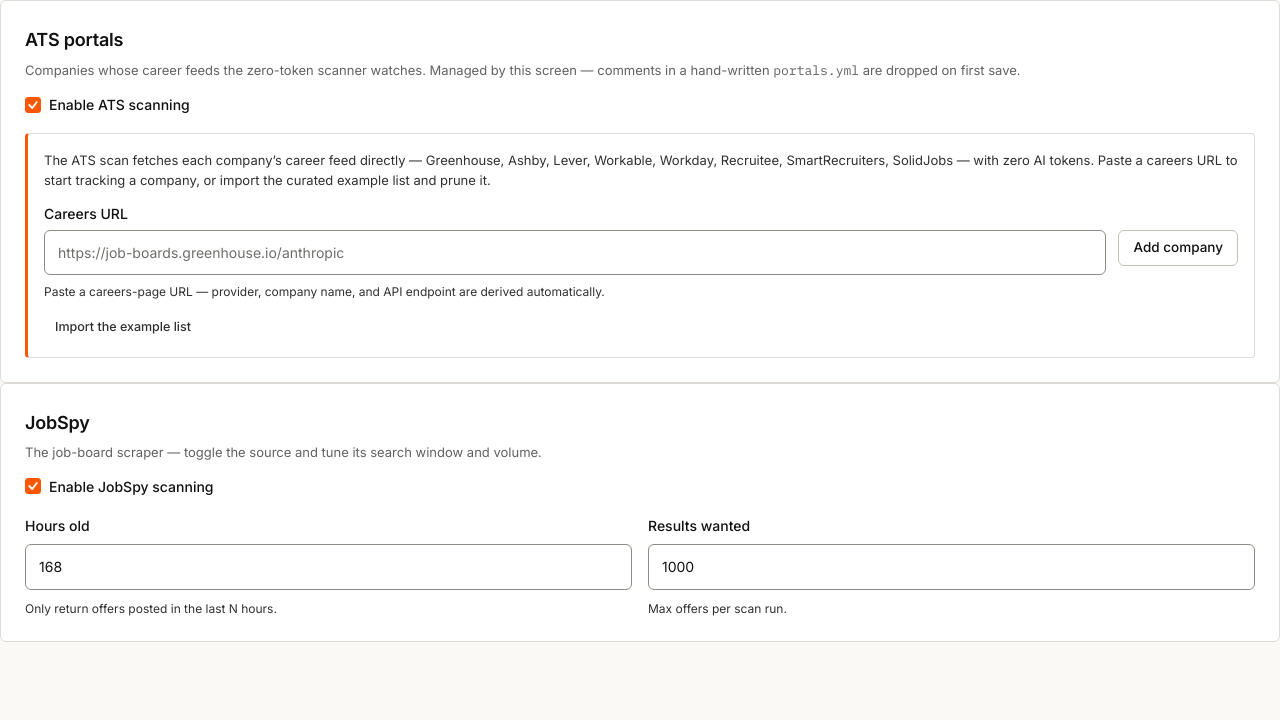
Scenario: Source toggles — at least one source must stay enabled › allows switching a source off while the sibling is still enabled — across sections
Note: ATS off while JobSpy is on → allowed.
Click the checkbox with id "settings-source-ats" at (33, 105), box x1=25 y1=97 x2=41 y2=113
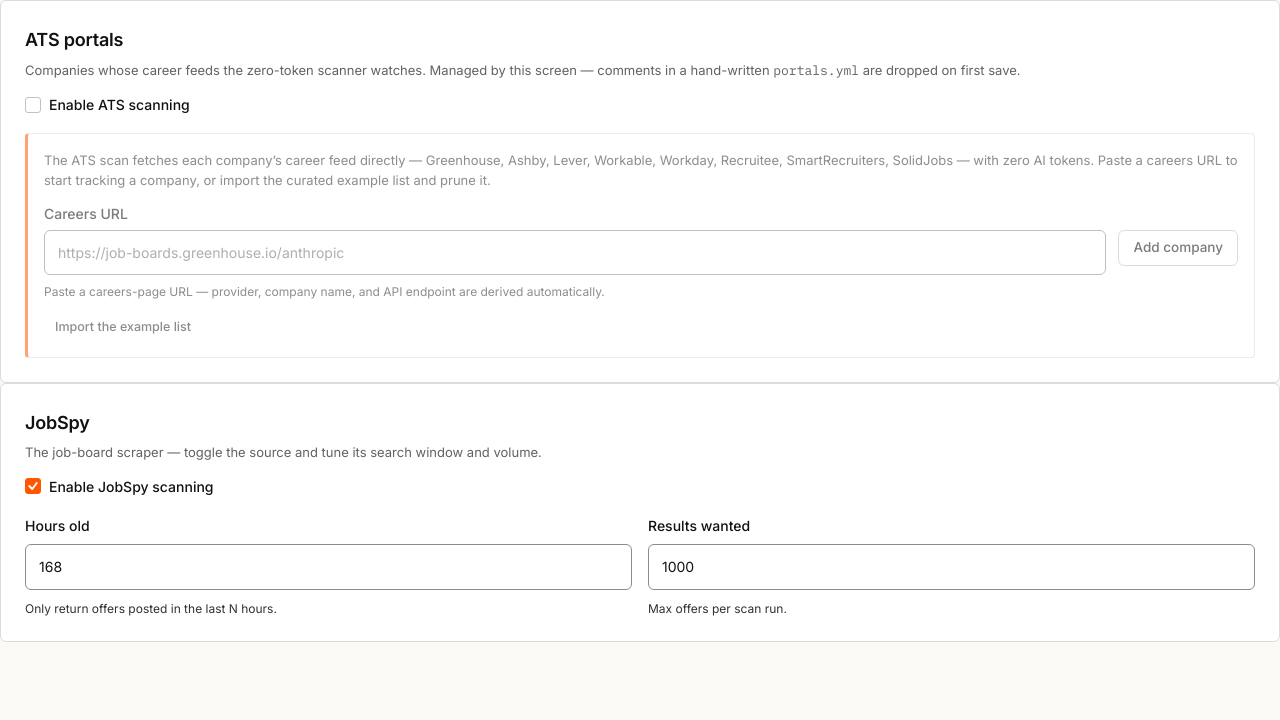
Expected: the text "At least one source must stay enabled." is not shown
Expected: the checkbox with id "settings-source-ats" is not checked, x1=25 y1=97 x2=41 y2=113
Click the checkbox with id "settings-source-jobspy" at (33, 486), box x1=25 y1=478 x2=41 y2=494
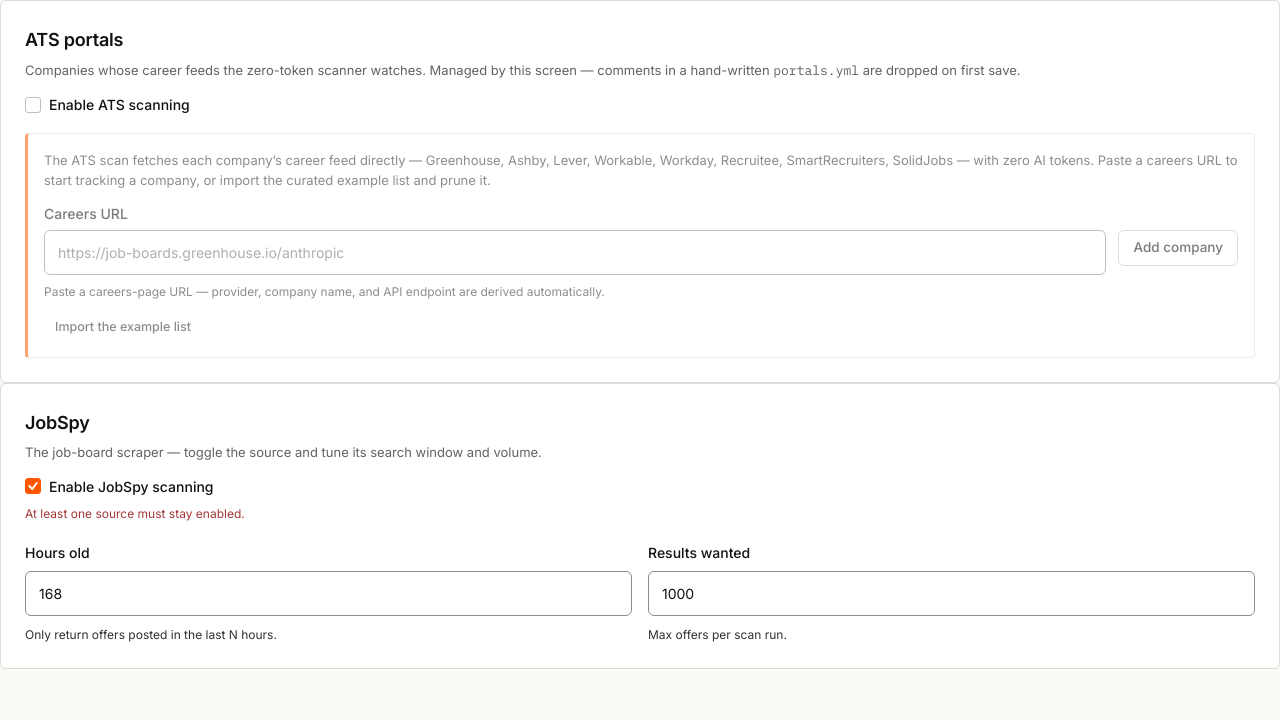
Expected: the text "At least one source must stay enabled." is shown, x1=25 y1=506 x2=245 y2=521
